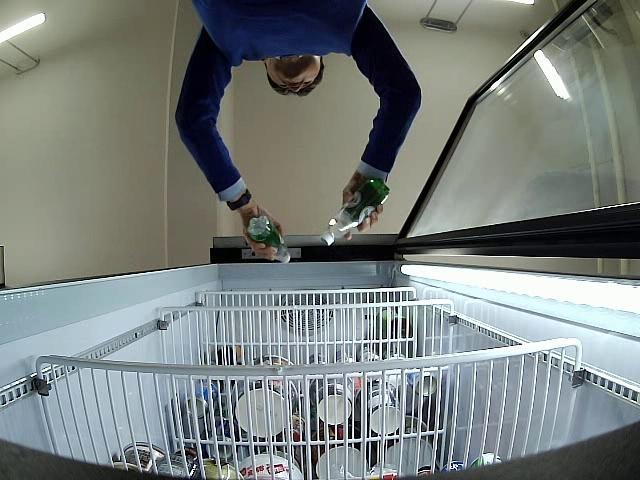18_trevi: (321, 179, 390, 246), (247, 215, 290, 265)
